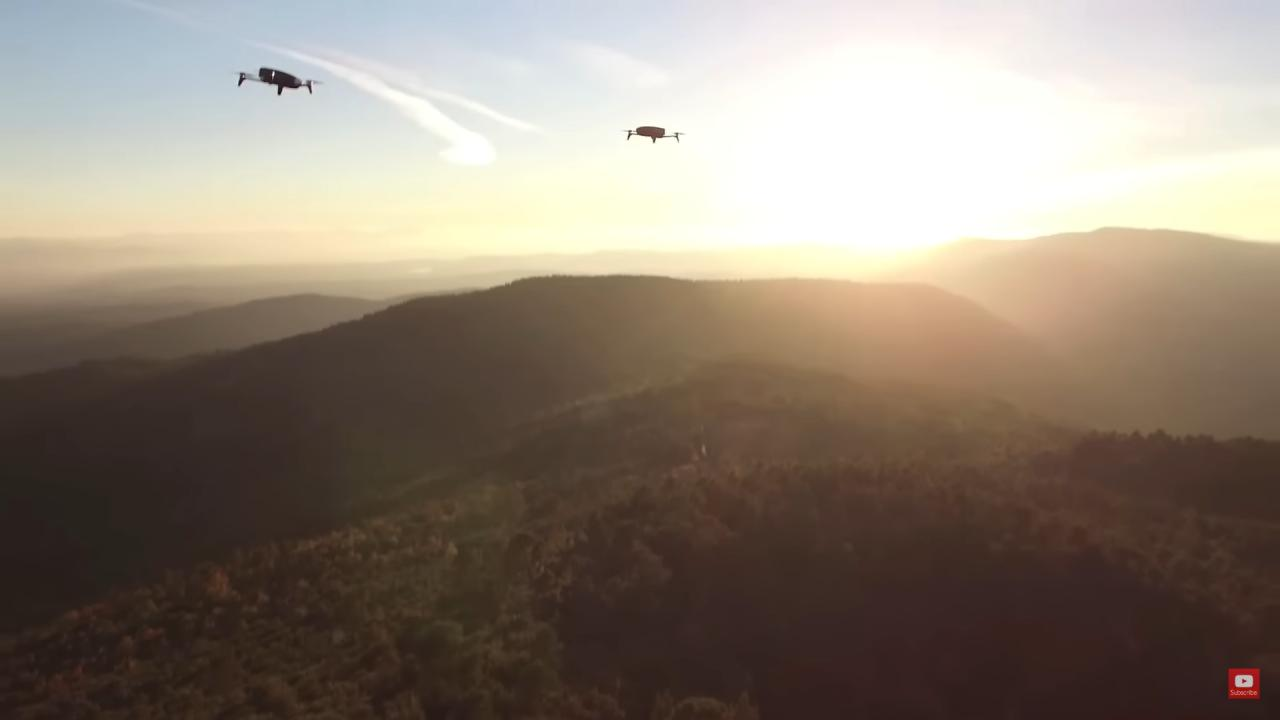Drone: (232, 58, 330, 108), (613, 118, 696, 154)
